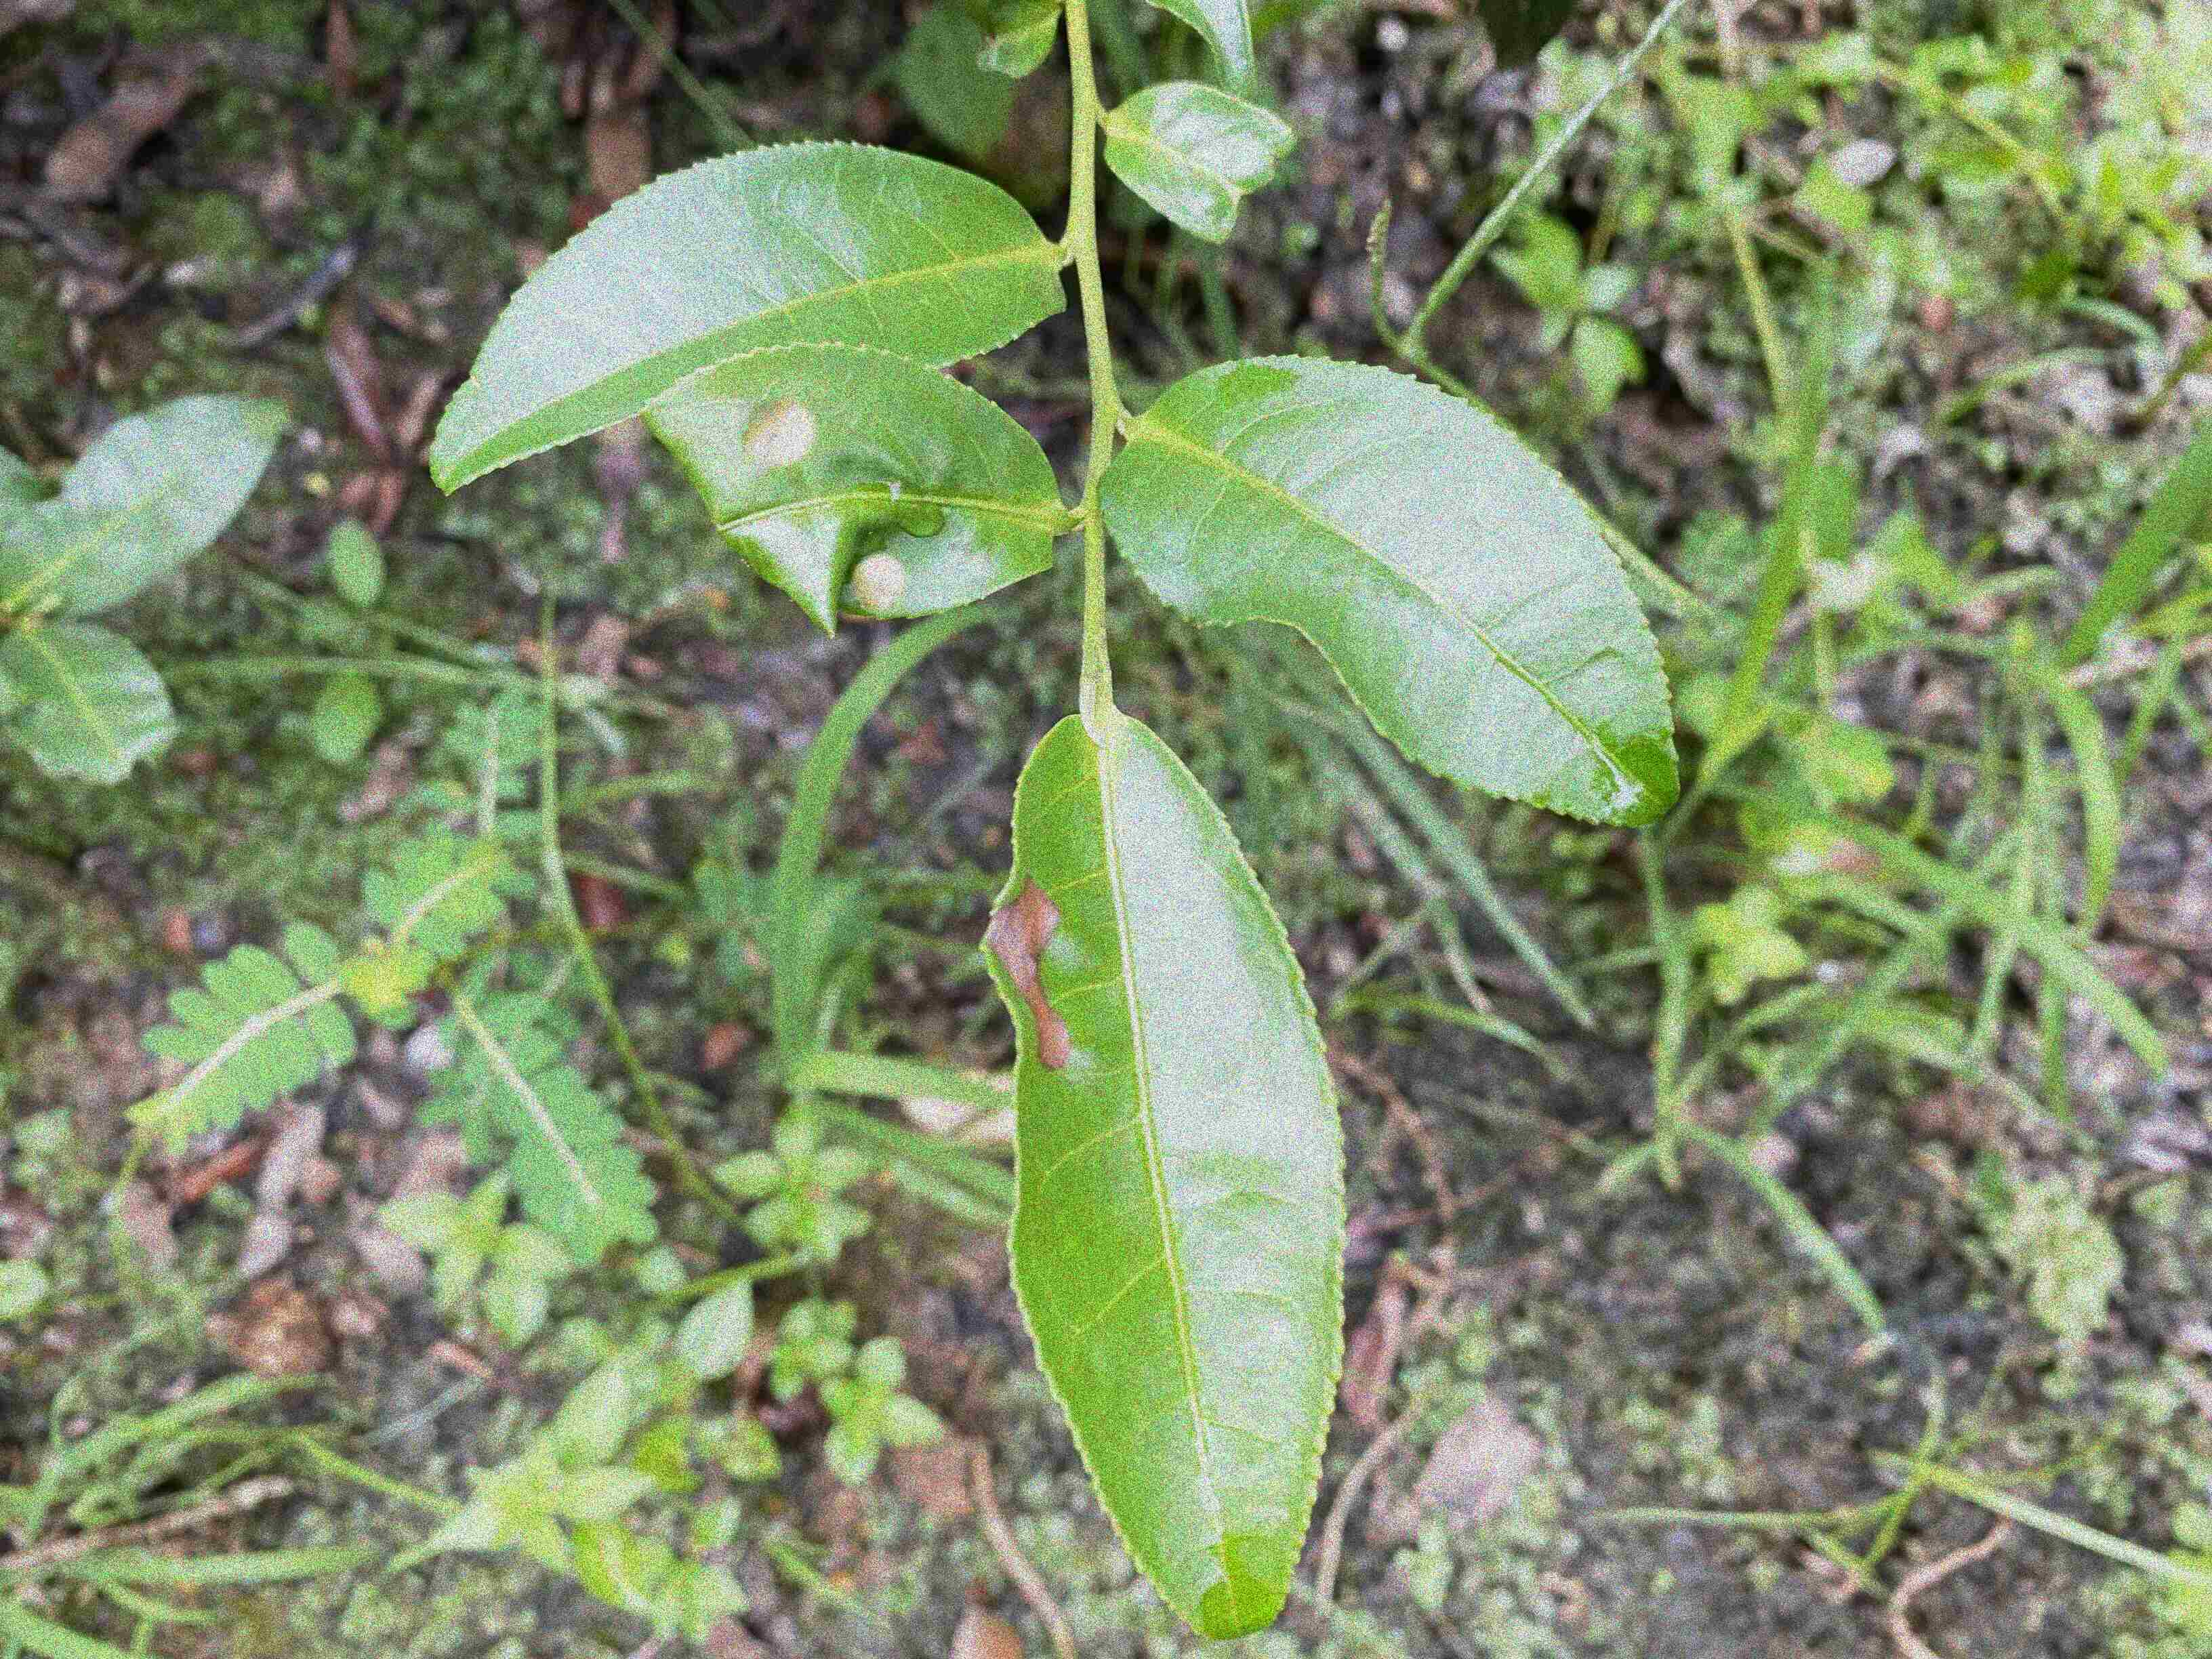chabing_high: (651, 340, 1071, 641)
chihuo_high: (1103, 80, 1296, 251)
healthy: (1101, 354, 1684, 826), (428, 141, 1068, 495)
tanju_high: (989, 711, 1352, 1640)
